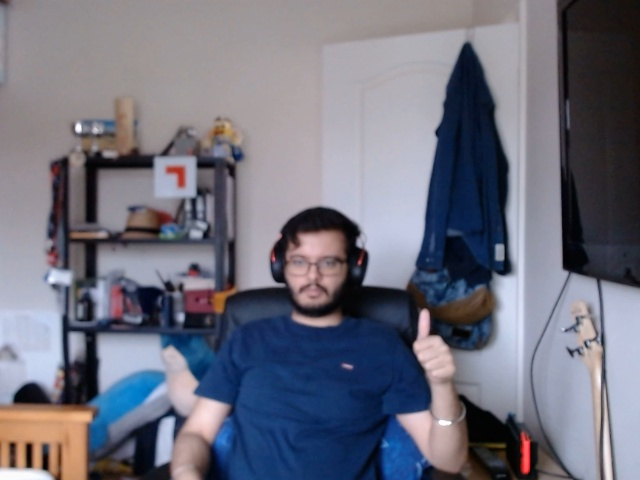Thumbs up: (401, 302, 475, 396)
